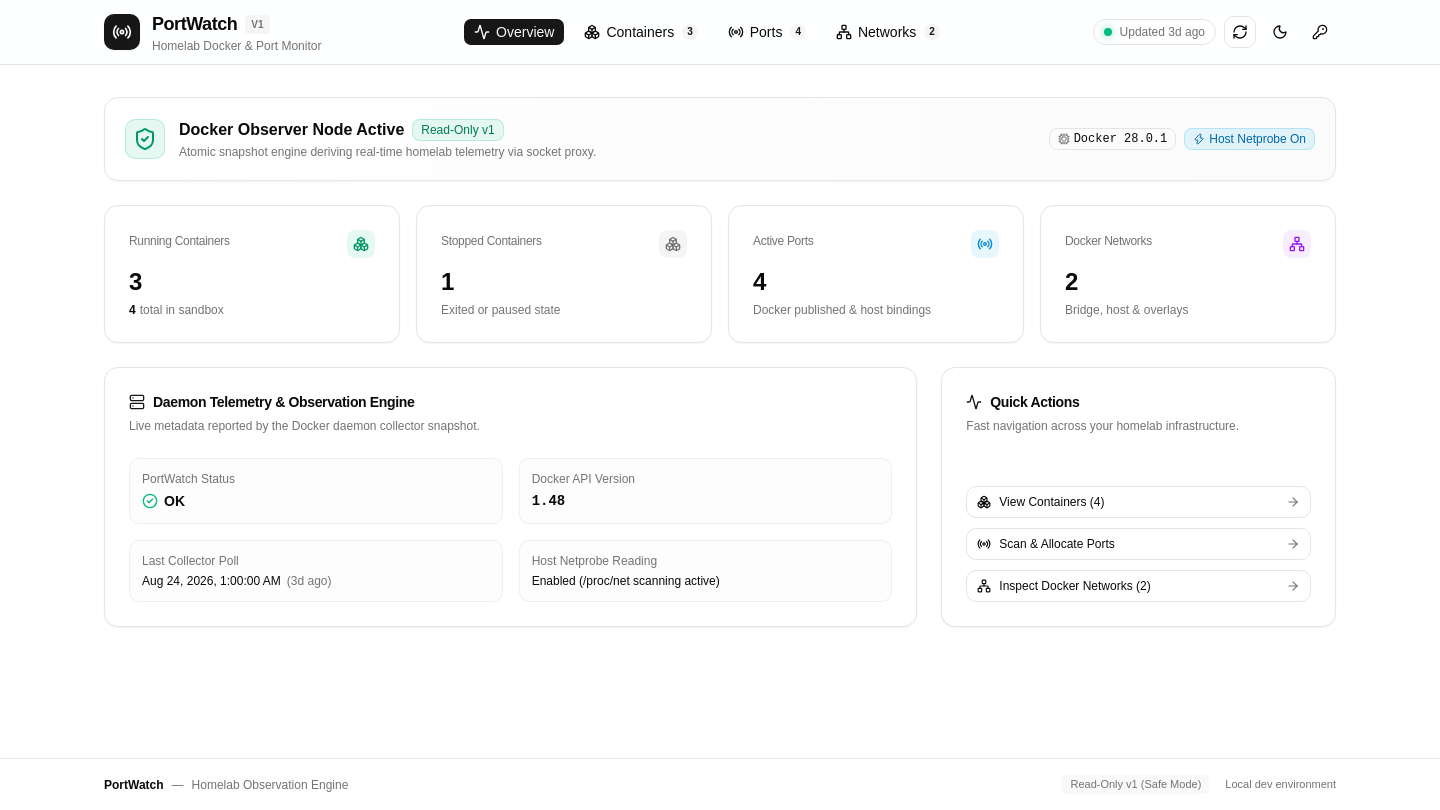
Test: App Dashboard › switches to networks tab and displays docker networks
Expected: the text "Docker 28.0.1" is shown, [1049,128,1176,150]
Click the button "Networks 2": (888, 32) [825,18,951,46]
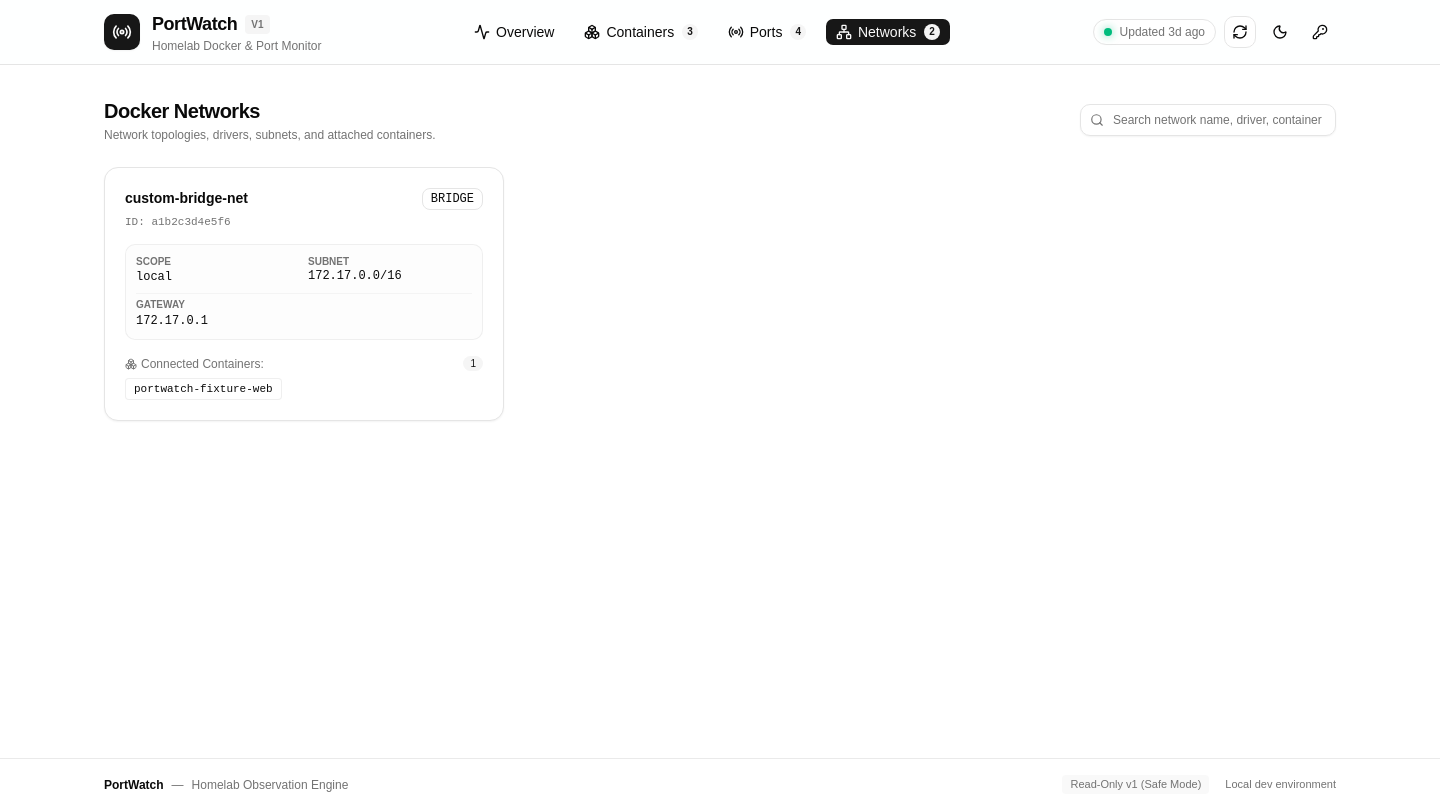
Expected: the heading "Docker Networks" is shown, [104,100,260,122]
Expected: the heading "custom-bridge-net" is shown, [125,190,248,206]
Expected: the text "172.17.0.0/16" is shown, [308,269,402,283]
